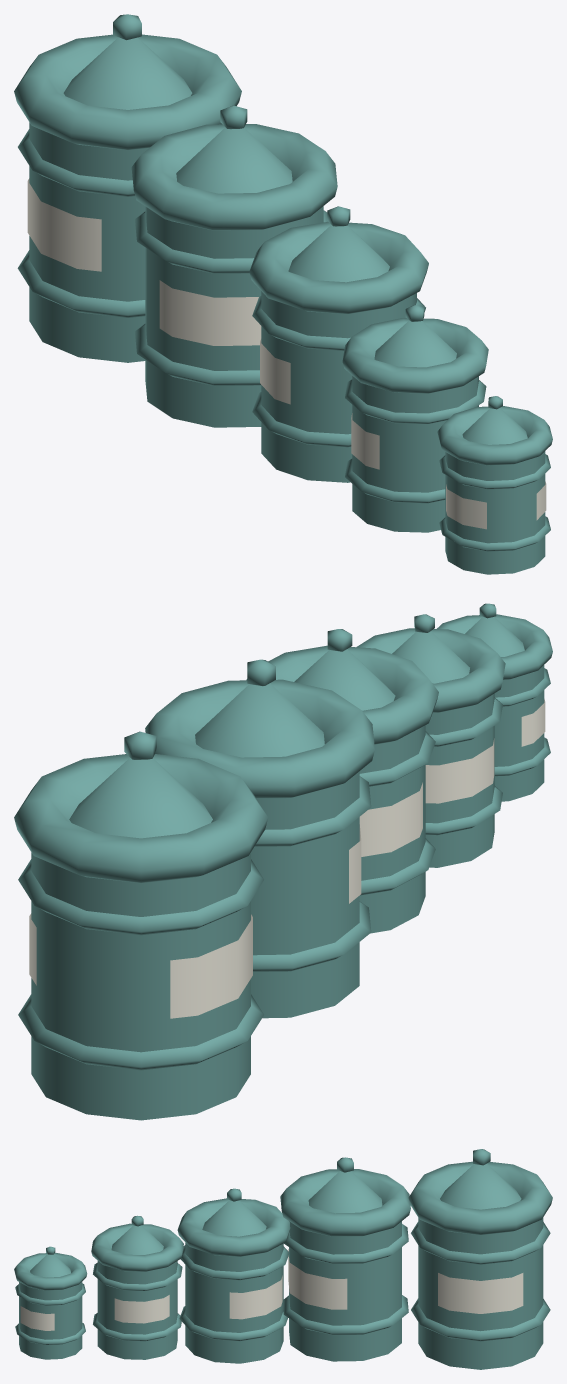
File: GB_093_094_jars.glb
3 views of the same model, one above another, from view 1: azimuth 30°, elevation 25°; view 2: azimuth 150°, elevation 25°; view 3: azimuth 270°, elevation 25° (orthographic). The views are drawn at different scales.
Parts seen in each view (by area): view 1: Jar, Jar.005, Jar.001, Jar.002, Jar.003; view 2: Jar, Jar.005, Jar.001, Jar.002, Jar.003; view 3: Jar, Jar.005, Jar.001, Jar.002, Jar.003, Label, Label.004, Label.003, Label.002, Label.001.
Part boxes in pixels (left/top/right/bottom): Jar: left=14, top=14, right=241, bottom=362; Jar.005: left=131, top=105, right=337, bottom=427; Jar.001: left=249, top=206, right=428, bottom=482; Jar.002: left=342, top=305, right=488, bottom=532; Jar.003: left=437, top=396, right=552, bottom=574; Jar: left=14, top=731, right=268, bottom=1120; Jar.005: left=145, top=659, right=374, bottom=1018; Jar.001: left=246, top=629, right=438, bottom=933; Jar.002: left=356, top=614, right=505, bottom=867; Jar.003: left=437, top=603, right=552, bottom=801; Jar: left=408, top=1149, right=552, bottom=1369; Jar.005: left=280, top=1157, right=410, bottom=1361; Jar.001: left=177, top=1188, right=290, bottom=1363; Jar.002: left=91, top=1215, right=183, bottom=1359; Jar.003: left=14, top=1246, right=87, bottom=1359; Label: left=438, top=1273, right=523, bottom=1313; Label.004: left=289, top=1258, right=347, bottom=1309; Label.003: left=229, top=1275, right=282, bottom=1319; Label.002: left=114, top=1295, right=169, bottom=1323; Label.001: left=20, top=1306, right=54, bottom=1330.
Bounding box in the file's own units: 0.5937 × 0.8817 × 2.21.
